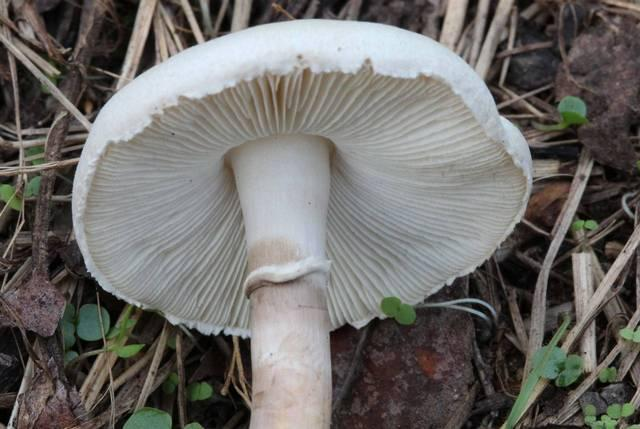Non-edible Mushroom: (69, 17, 534, 428)
